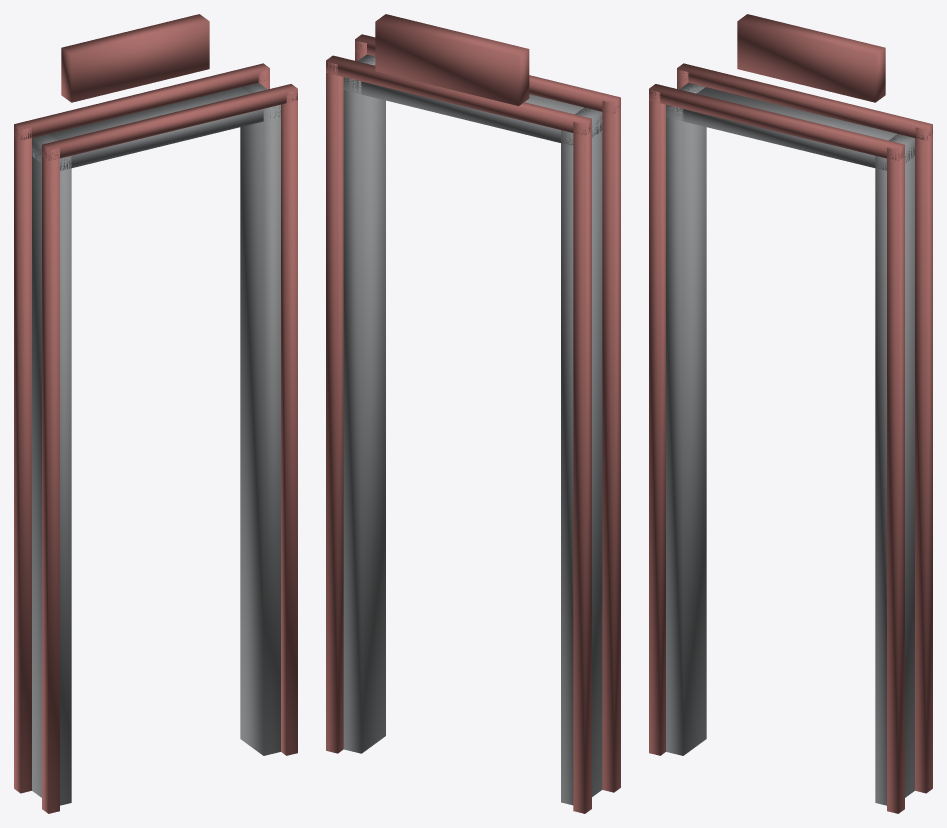
Rendered from doorway_emergency_exit_w76_h240_d16.glb.
The picture shows the model from 3 angles, left to right: view 1: azimuth 30°, elevation 25°; view 2: azimuth 150°, elevation 25°; view 3: azimuth 330°, elevation 25°; orthographic projection. The views are drawn at different scales.
Visible parts, largest first — view 1: world; view 2: world; view 3: world.
Boxes of the visible parts, box(x1,y1,x2,y2) form: world: box(14, 14, 297, 813); world: box(326, 14, 620, 813); world: box(649, 14, 932, 813).
Size of the model in its own units: 0.9868 by 2.73 by 0.2932.
